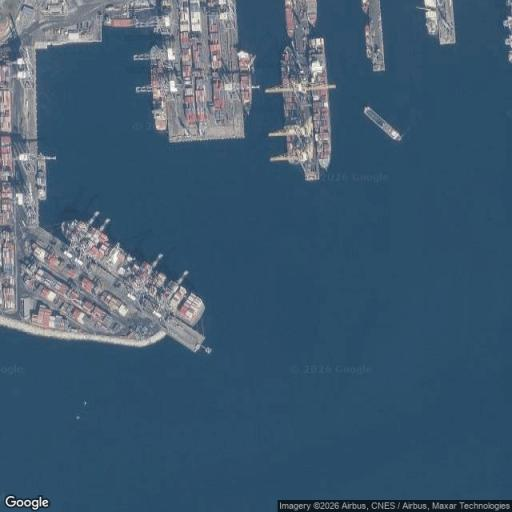ship: (62, 218, 206, 326), (281, 46, 306, 164), (309, 38, 331, 169), (151, 47, 167, 131), (364, 107, 401, 141), (238, 51, 253, 115), (37, 153, 46, 200), (425, 0, 437, 35), (285, 0, 295, 38), (307, 0, 317, 26), (365, 25, 371, 58), (362, 0, 368, 13)
